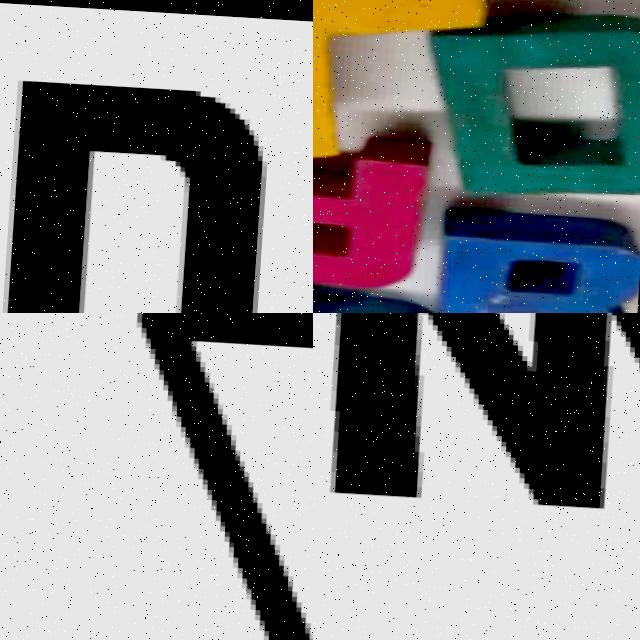2: (107, 313, 313, 640)
A: (313, 128, 445, 284)
B: (431, 209, 640, 313)
D: (0, 78, 272, 313), (451, 0, 640, 203)
L: (313, 0, 507, 172)
P: (313, 267, 440, 313)
W: (315, 313, 640, 534)
